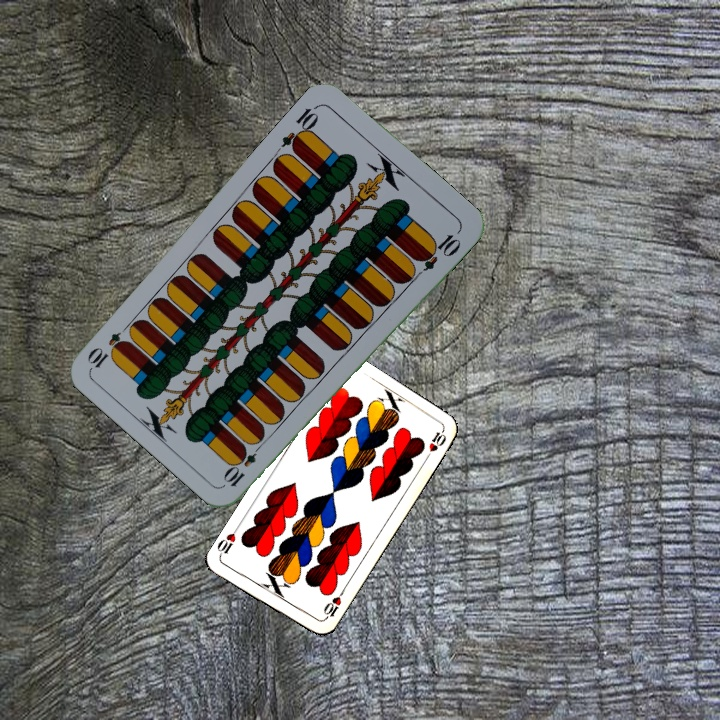E10: (220, 437, 266, 490), (277, 101, 322, 155)
H10: (319, 587, 346, 623)
